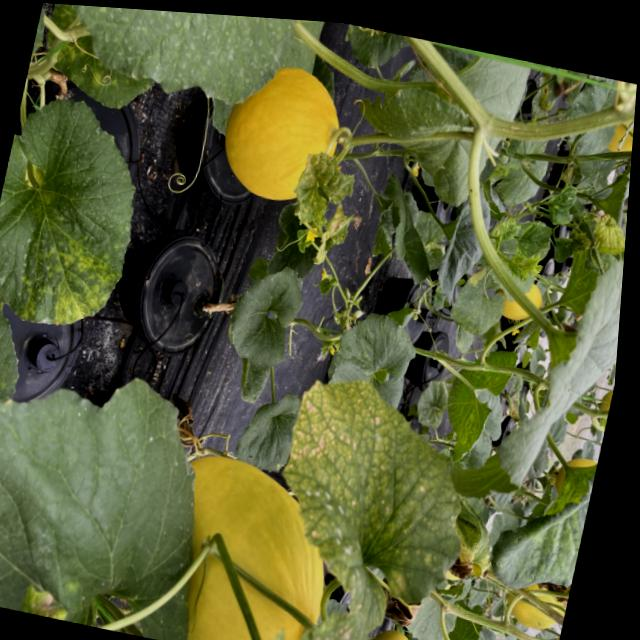CMV: (245, 357, 494, 640), (487, 388, 611, 622), (0, 299, 38, 414)
SLCV: (287, 147, 356, 224), (507, 227, 553, 304)
bacterial wilt: (537, 578, 572, 601)
downy mildew: (0, 83, 159, 340), (432, 325, 525, 472)
healthy: (0, 367, 227, 640), (529, 252, 624, 444), (213, 259, 309, 410), (325, 304, 421, 414), (413, 614, 527, 640)
powdery mildew: (24, 2, 293, 132)
